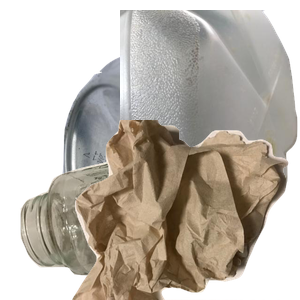glass: (18, 143, 227, 300)
metal: (60, 44, 300, 224)
plastic: (120, 10, 300, 190)
trash: (70, 120, 300, 300)
